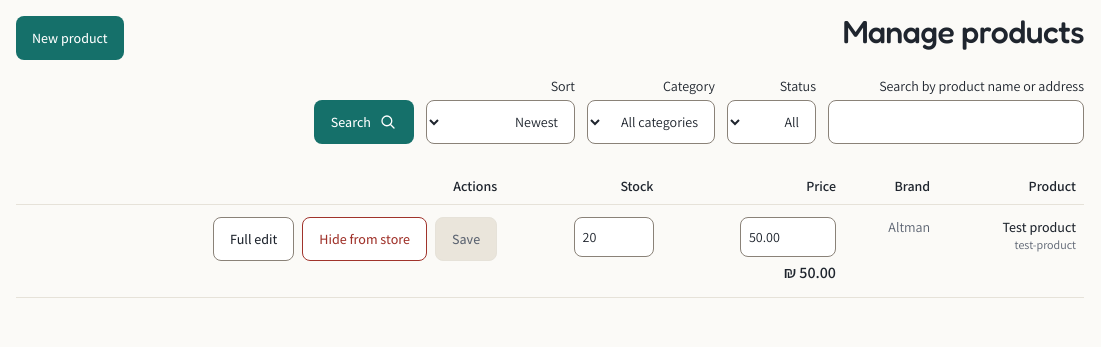
Test: 🔴 inline save — only the CHANGED fields travel › 🔴 the active toggle KEEPS an unsaved draft — hiding a row must not revert a typed price
Expected: the text "Test product" is shown, left=1002, top=218, right=1076, bottom=236
Replace the text in the 2nd field named "Price for" with "60.00" at (788, 237), box left=740, top=217, right=836, bottom=257
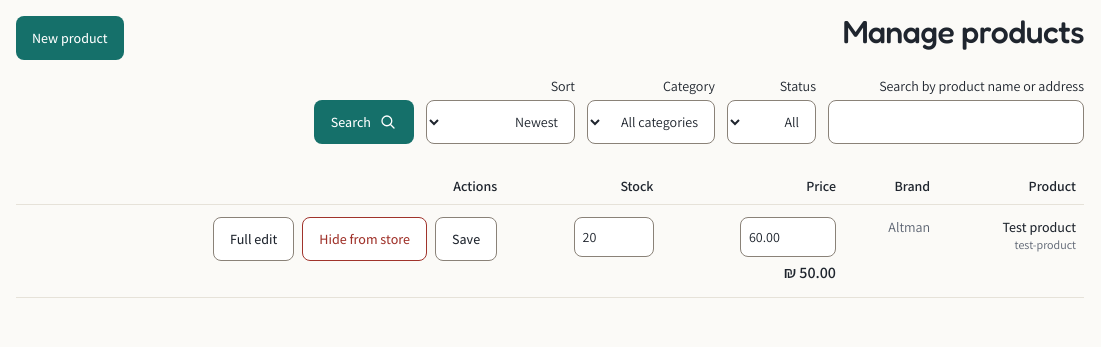
Click the button "Hide from store" at (365, 239), box left=302, top=217, right=427, bottom=261
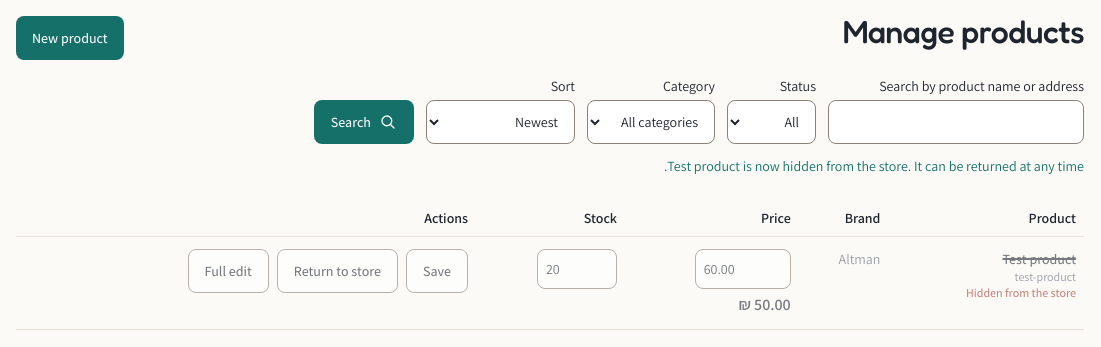
Expected: the button "Return to store" is shown, left=277, top=249, right=398, bottom=293
